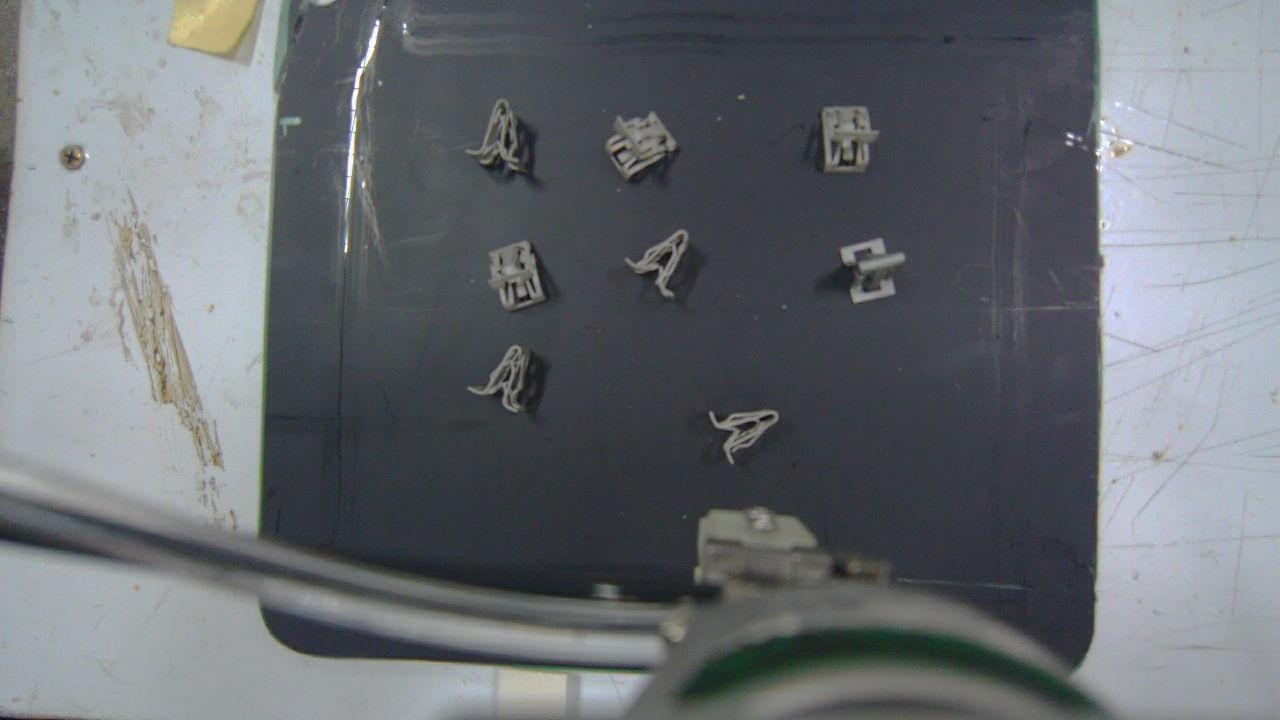ng: (605, 112, 678, 182), (462, 97, 526, 174), (468, 344, 531, 413), (627, 229, 690, 297), (487, 241, 546, 312), (708, 410, 777, 467), (820, 105, 877, 172)
pass: (842, 237, 905, 302)
